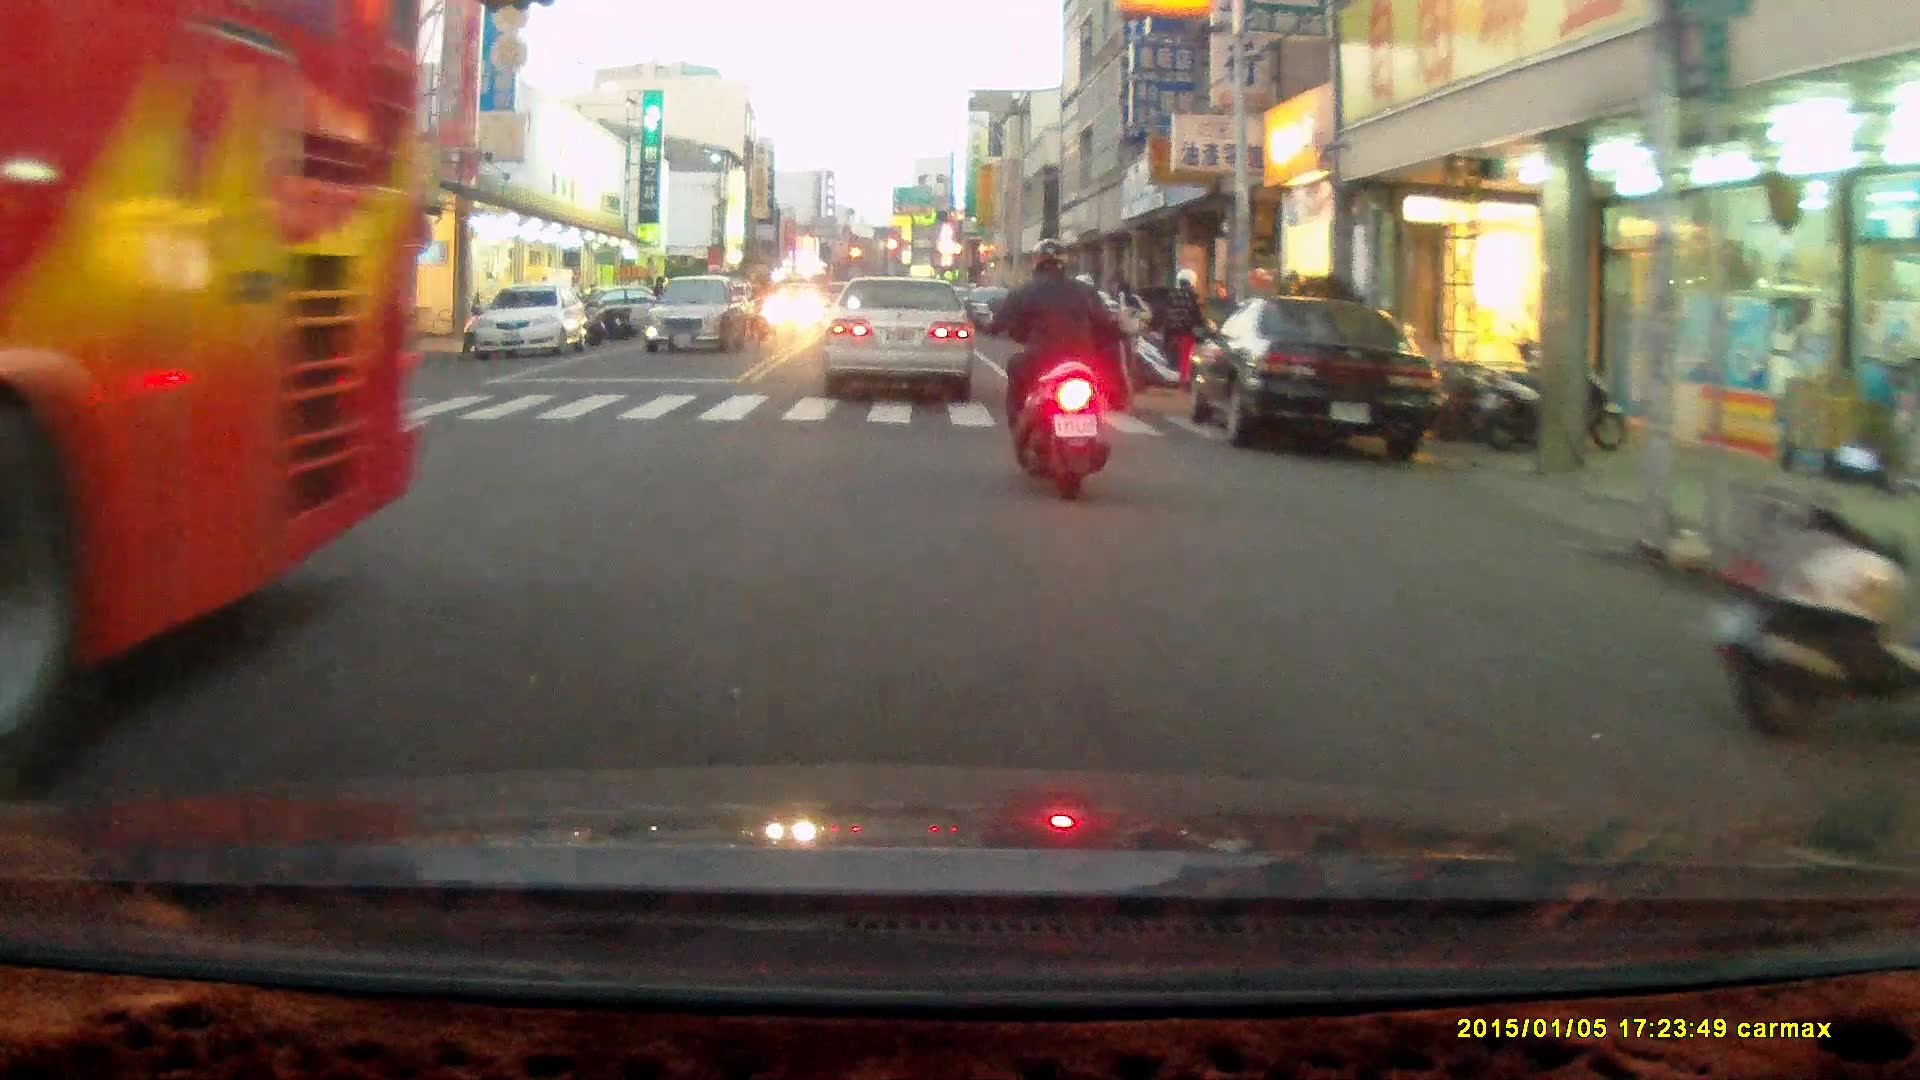pedestrian: (1168, 267, 1208, 400)
rider: (989, 239, 1115, 504)
vehicle: (1, 16, 434, 724), (1186, 302, 1452, 463), (827, 276, 985, 407), (469, 288, 585, 365), (648, 279, 750, 356)
